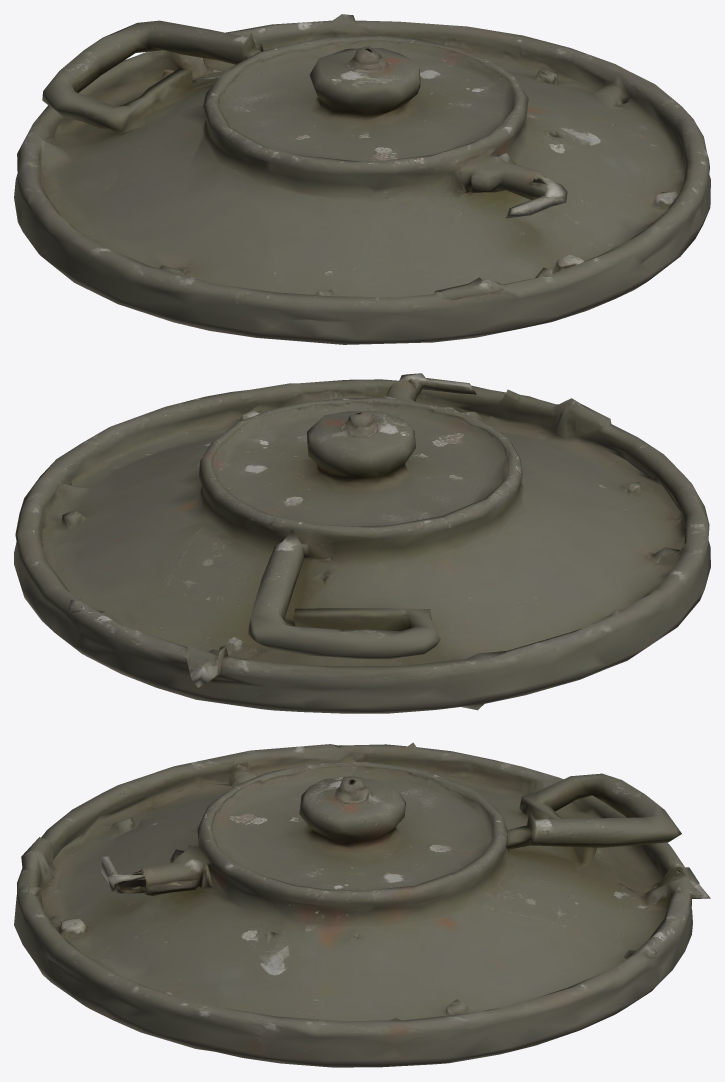
File: land_mine.197966adab.glb
The picture shows the model from 3 angles, top to bottom: view 1: azimuth 30°, elevation 25°; view 2: azimuth 150°, elevation 25°; view 3: azimuth 270°, elevation 25°; orthographic projection. The views are drawn at different scales.
Visible parts, largest first — view 1: land_mine; view 2: land_mine; view 3: land_mine.
Boxes of the visible parts, left/top/right/bottom form: land_mine: left=14, top=14, right=710, bottom=344; land_mine: left=14, top=373, right=710, bottom=713; land_mine: left=14, top=742, right=710, bottom=1067.
Size of the model in its own units: 0.3114 by 0.0803 by 0.32.
Materials: 1 (1 with a texture image).
